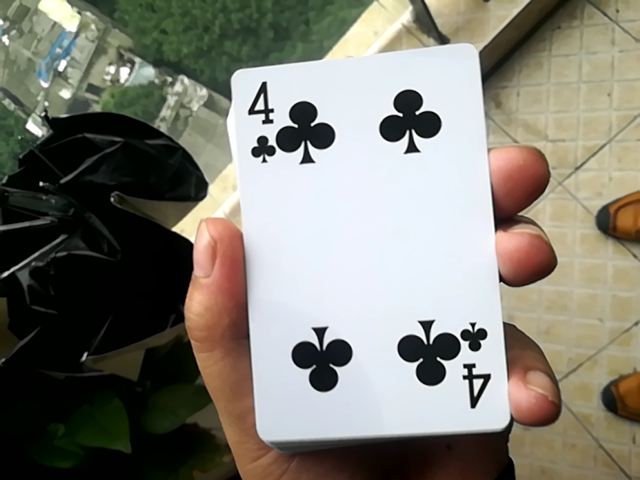mh 4: (208, 30, 498, 440)
